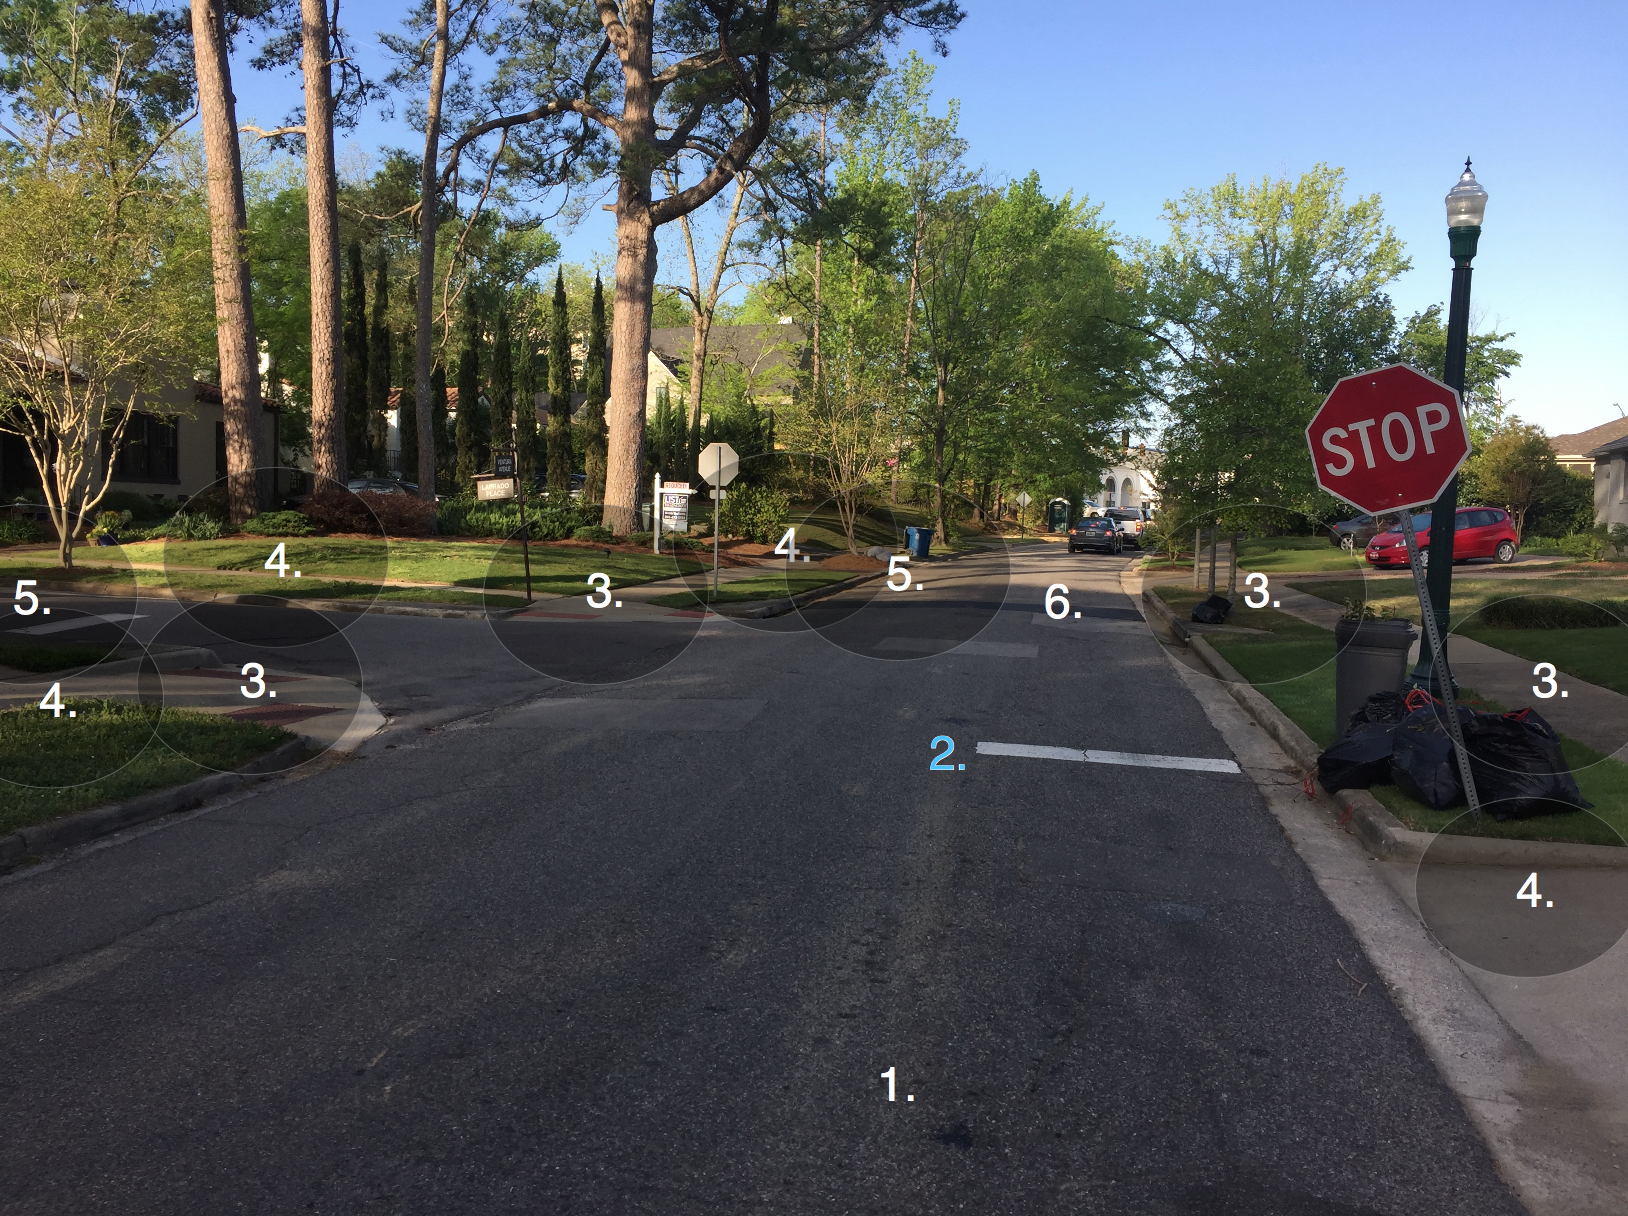stop: (1305, 363, 1484, 519)
